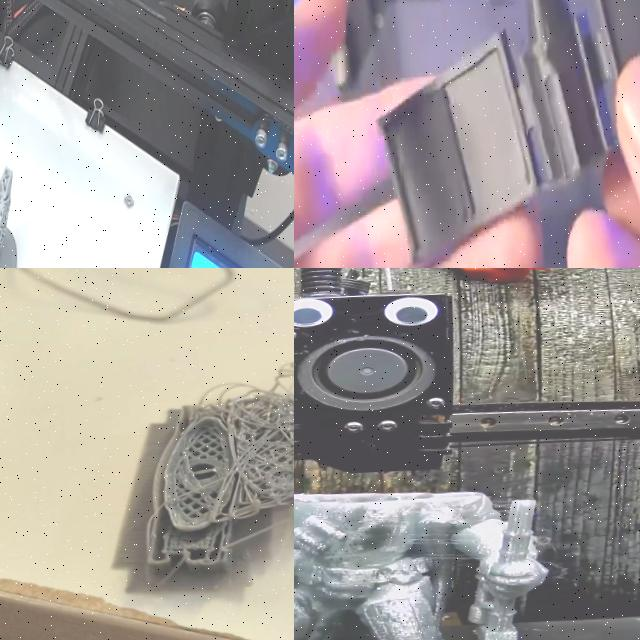spaghetti: (125, 349, 294, 617)
